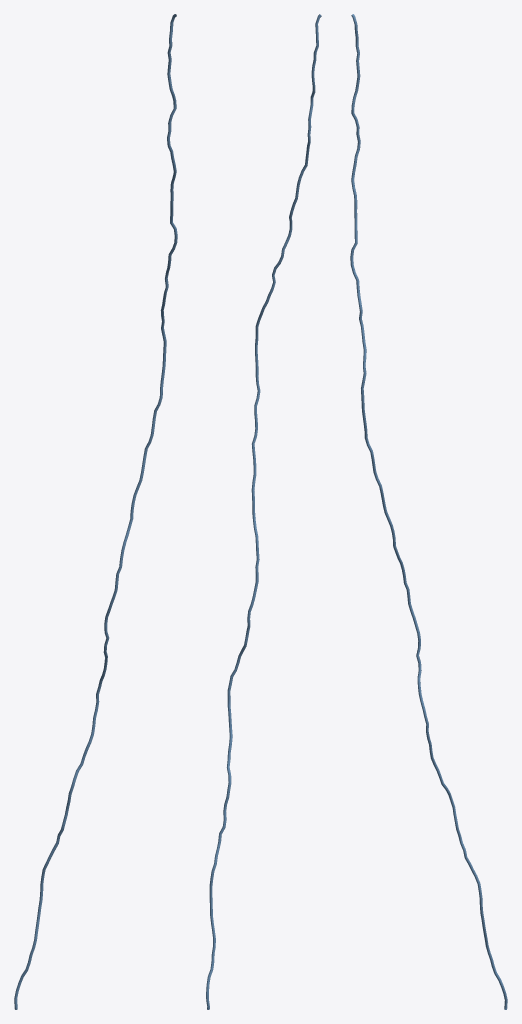
Rendered from sweep43.fbx.
3 views of the same model, side by side, from view 1: azimuth 90°, elevation 25°; view 2: azimuth 150°, elevation 25°; view 3: azimuth 270°, elevation 25° (orthographic). The views are drawn at different scales.
Visible parts, largest first — view 1: sweep43; view 2: sweep43; view 3: sweep43.
Boxes of the visible parts, x1,y1,x2,y2 form: sweep43: (14,14,177,1009); sweep43: (206,14,321,1009); sweep43: (350,14,507,1009).
Bounding box in the file's own units: 0.4899 × 7.2 × 1.05.
